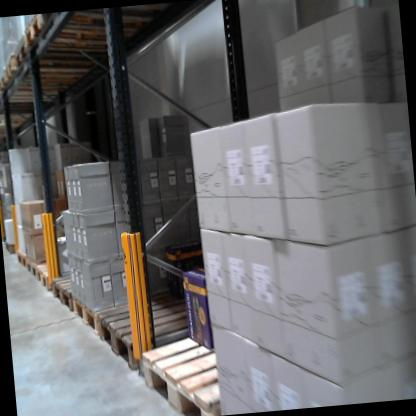pallet: (94, 281, 218, 378), (137, 323, 238, 416), (24, 8, 155, 57), (4, 46, 108, 87), (65, 288, 137, 345), (12, 33, 105, 77), (0, 63, 81, 104), (50, 274, 88, 316), (31, 256, 67, 290), (24, 255, 46, 283), (16, 249, 28, 269)
